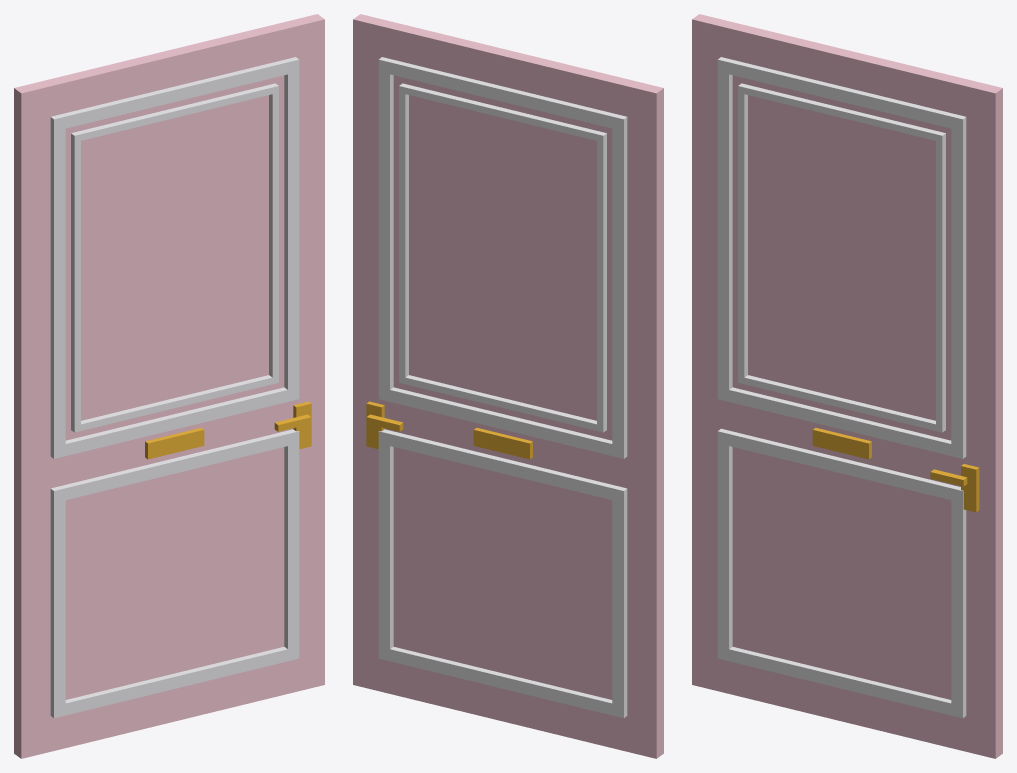
The model's file is SM_Door_girls_inner_120x250.fbx.
The picture shows the model from 3 angles, left to right: view 1: azimuth 30°, elevation 25°; view 2: azimuth 150°, elevation 25°; view 3: azimuth 330°, elevation 25°; orthographic projection.
Visible parts, largest first — view 1: SM_Door_girls_inner_120x250; view 2: SM_Door_girls_inner_120x250; view 3: SM_Door_girls_inner_120x250.
Part boxes in pixels (x1,y1,x2,y2): SM_Door_girls_inner_120x250: [14, 14, 324, 758]; SM_Door_girls_inner_120x250: [353, 14, 663, 758]; SM_Door_girls_inner_120x250: [692, 14, 1002, 758].
Size of the model in its own units: 1.19 by 2.49 by 0.175.
